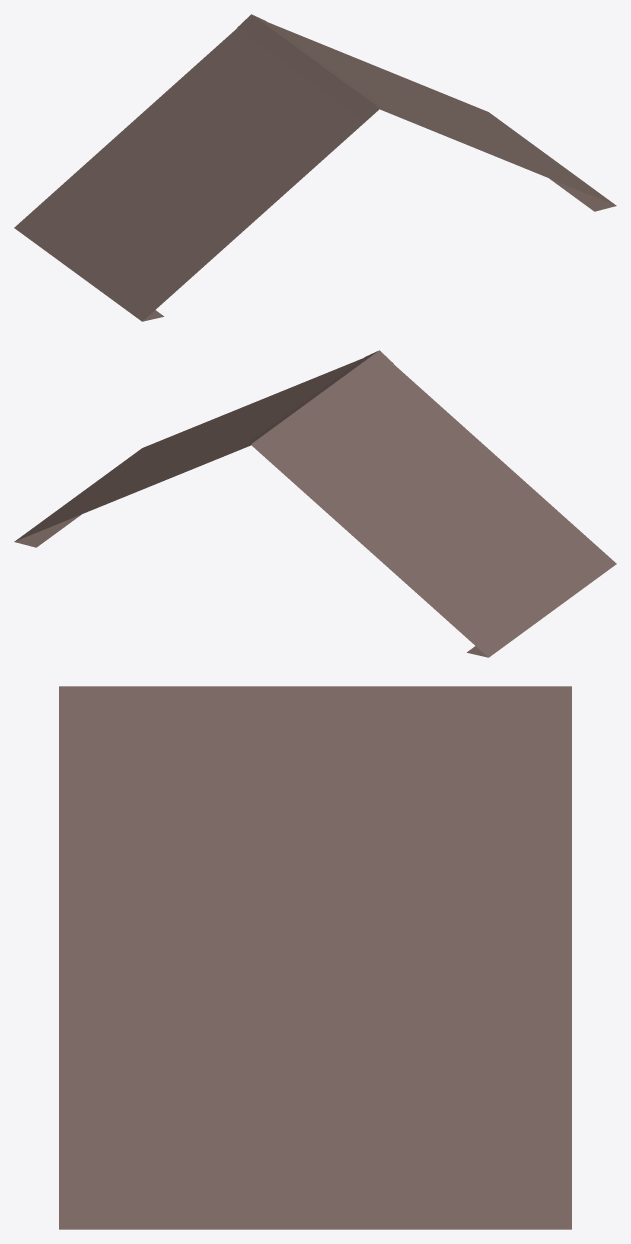
File: Building_Roof_00.fbx
3 renders of one model, top to bottom at view 1: azimuth 30°, elevation 25°; view 2: azimuth 150°, elevation 25°; view 3: azimuth 270°, elevation 25°, orthographic. The views are drawn at different scales.
Visible parts, largest first — view 1: Building_Roof_00; view 2: Building_Roof_00; view 3: Building_Roof_00.
Boxes of the visible parts, x1,y1,x2,y2 form: Building_Roof_00: (14,14,616,321); Building_Roof_00: (14,350,616,657); Building_Roof_00: (59,686,571,1229).
Bounding box in the file's own units: 6.41 × 2.02 × 3.
